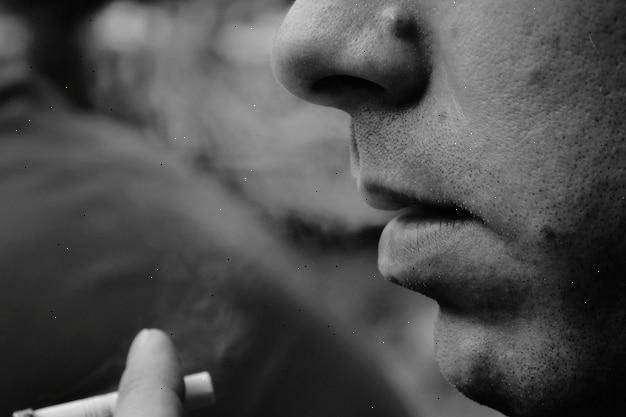cigarette: (13, 392, 117, 416)
